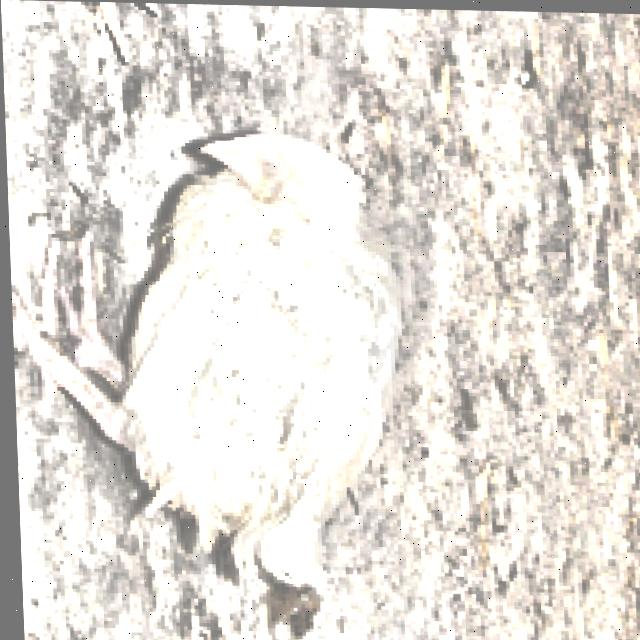Newcastle: (127, 102, 375, 246)
